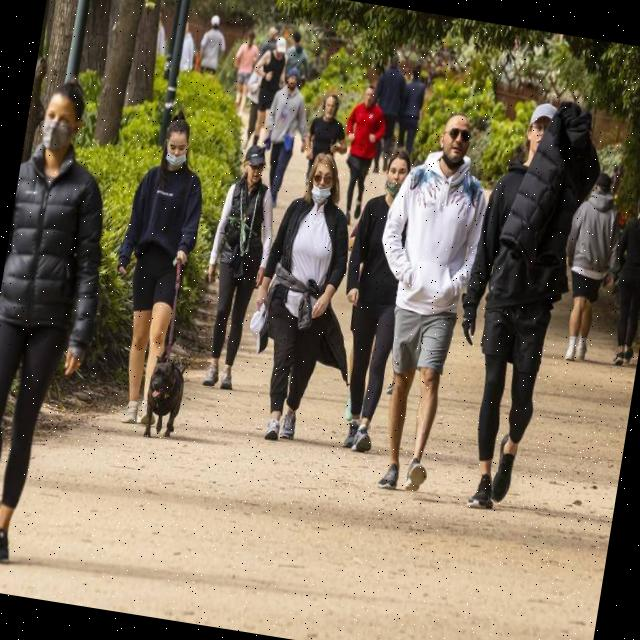Person: (435, 89, 608, 519), (0, 73, 132, 570), (346, 105, 500, 497), (94, 104, 218, 428), (236, 146, 364, 448), (321, 146, 424, 457), (189, 142, 286, 394), (550, 168, 628, 366), (252, 64, 318, 210), (332, 82, 392, 228), (598, 191, 640, 368), (240, 33, 294, 161), (364, 48, 410, 172), (302, 90, 354, 180), (393, 61, 431, 158), (223, 28, 266, 112), (194, 12, 232, 79), (280, 29, 314, 85)
